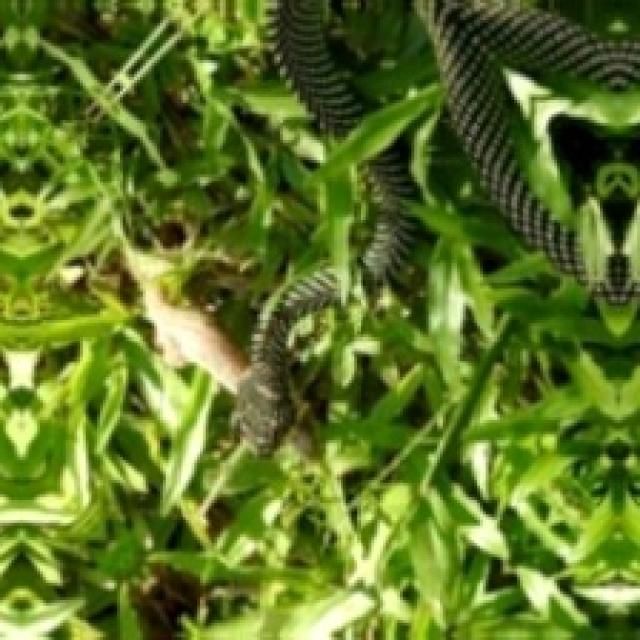paradise tree snake: (436, 0, 640, 271), (234, 269, 346, 451), (276, 0, 364, 133), (360, 137, 417, 286)
